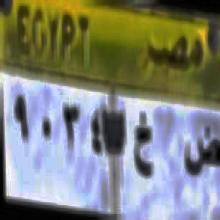0: (40, 109, 52, 148)
3: (64, 102, 81, 157)
4: (90, 112, 103, 156)
9: (14, 89, 32, 149)
daad: (182, 117, 220, 182)
khaa: (132, 109, 155, 190)
